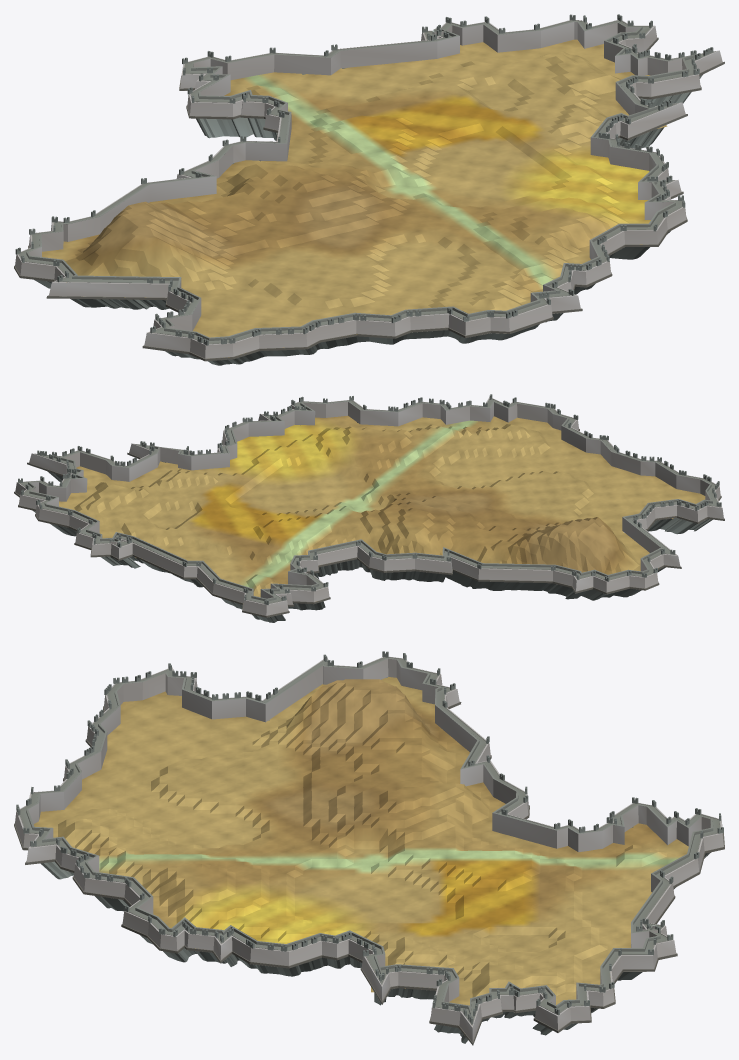
3 renders of one model, top to bottom at view 1: azimuth 30°, elevation 25°; view 2: azimuth 150°, elevation 25°; view 3: azimuth 270°, elevation 25°, orthographic. The views are drawn at different scales.
Visible parts, largest first — view 1: ground_9aaa892e; view 2: ground_9aaa892e; view 3: ground_9aaa892e.
Part boxes in pixels (left/top/right/bottom): ground_9aaa892e: left=14, top=14, right=724, bottom=365; ground_9aaa892e: left=14, top=394, right=724, bottom=622; ground_9aaa892e: left=14, top=651, right=724, bottom=1045.
Size of the model in its own units: 158 by 11.74 by 126.
Materials: 3 (1 with a texture image).
